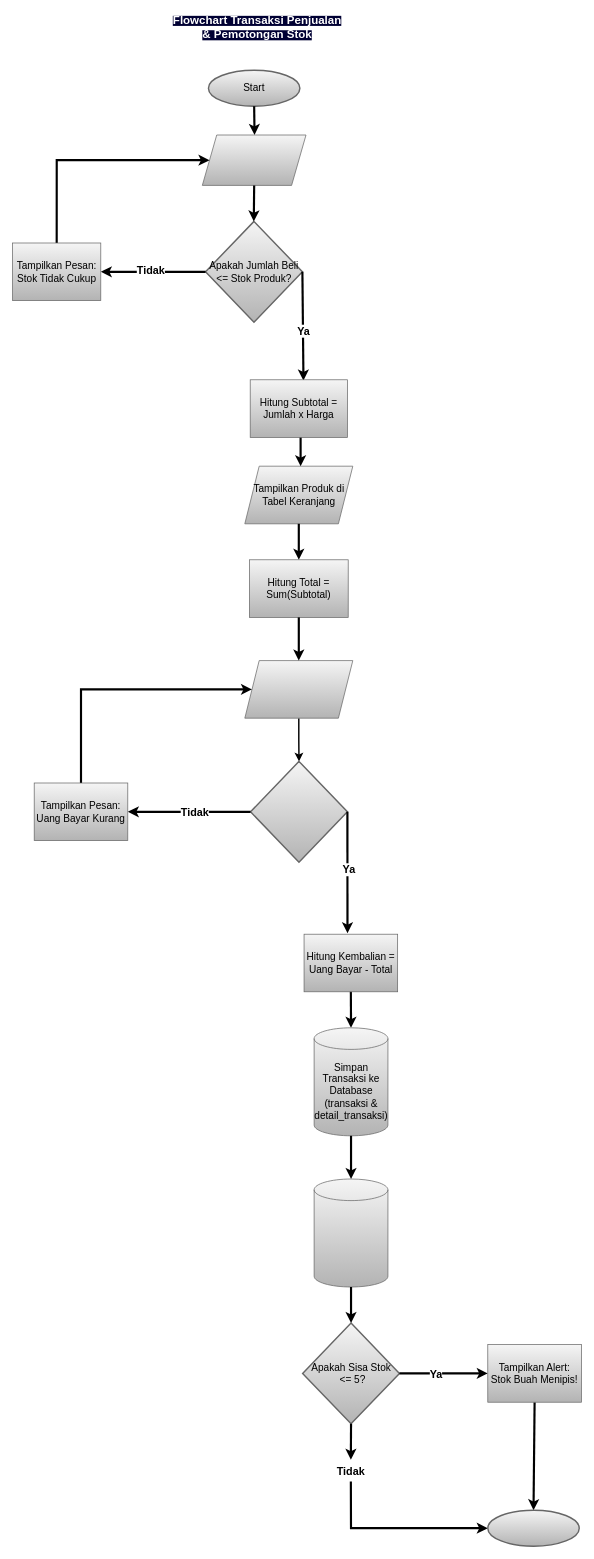
This 594x1559 diagram has some shape labels left out. The centre of each missing label's shape, as x and y in pixels:
Apakah Uang Bayar >= Total?: [298,811]
End: [533,1528]
Input Nominal Uang Bayar: [298,689]
Pilih Produk & Input Jumlah Beli: [254,159]
UPDATE Stok Produk (stok = stok - jumlah): [350,1232]
